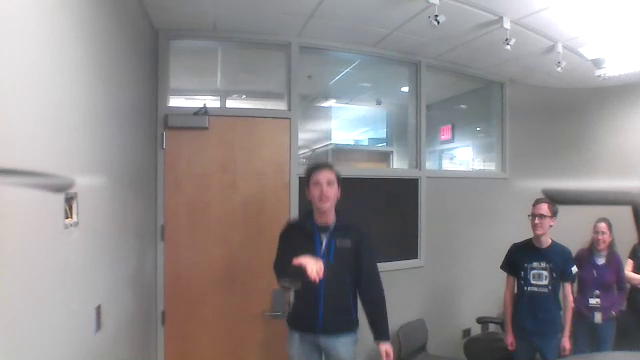land: (288, 250, 329, 285)
